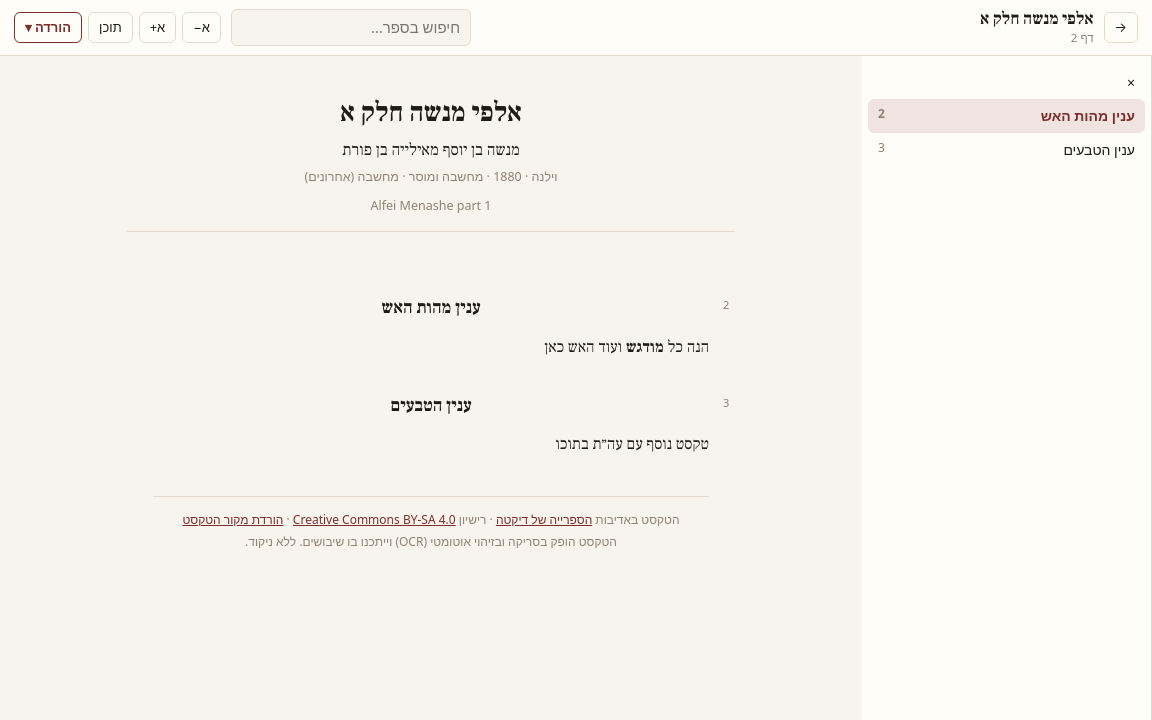
Test case: reader navigation and tools › reports a failed download rather than failing silently
The width and height of the screenshot is (1152, 720).
Expected: the text "הנה כל" is shown, [668,336,709,356]
What coordinates should you click on to do the following:
click the button "הורדה ▾"
I would click on:
 (48, 27)
Its box is [14,12,82,43].
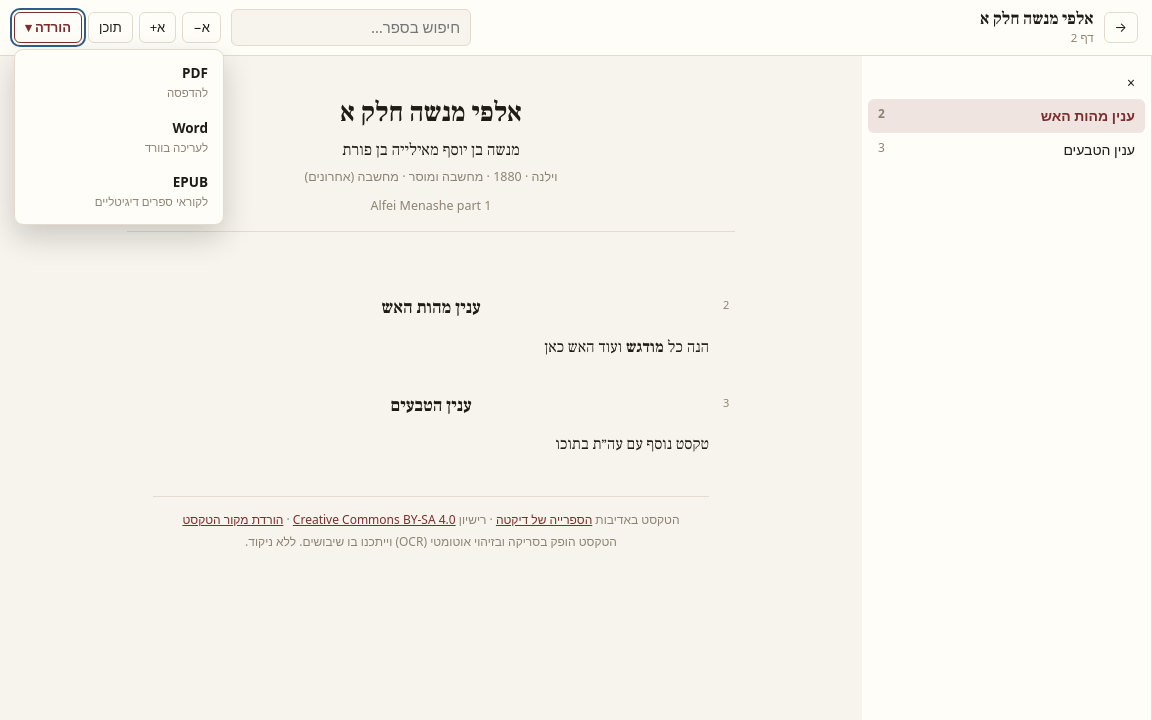
What coordinates should you click on to do the following:
click the button "Word לעריכה בוורד"
I would click on:
 (119, 137)
Its box is [20,110,218,164].
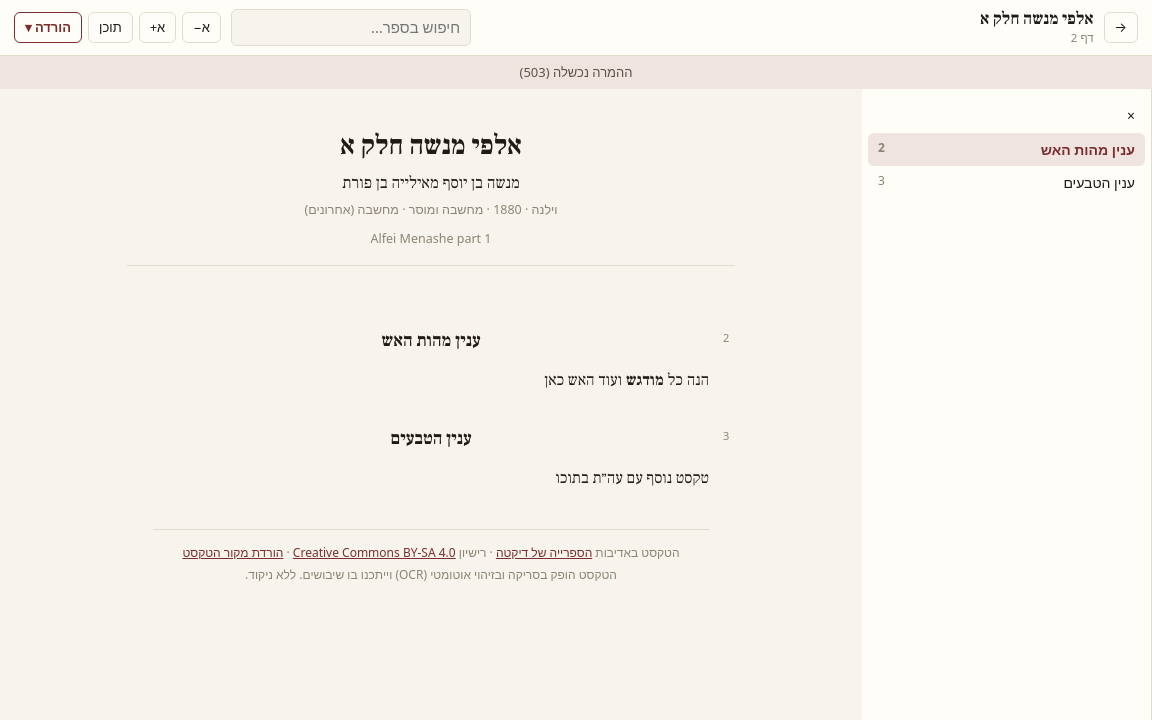
Now the text "ההמרה נכשלה (503)" is shown, box [520,62,633,82]
